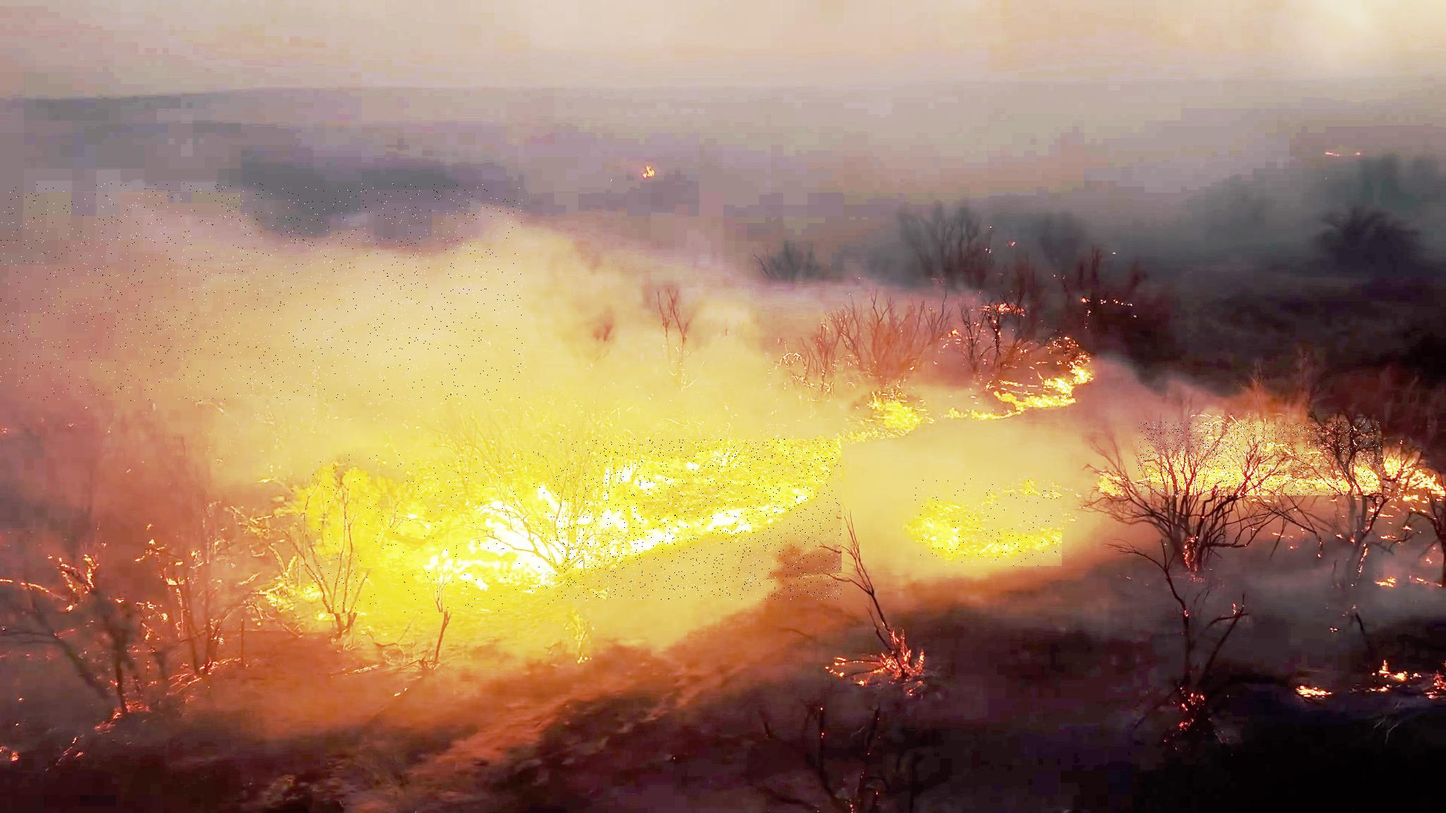fire: (556, 439, 842, 600), (305, 447, 555, 613), (1138, 422, 1382, 495), (914, 478, 1062, 566)
smoke: (0, 183, 522, 401)
